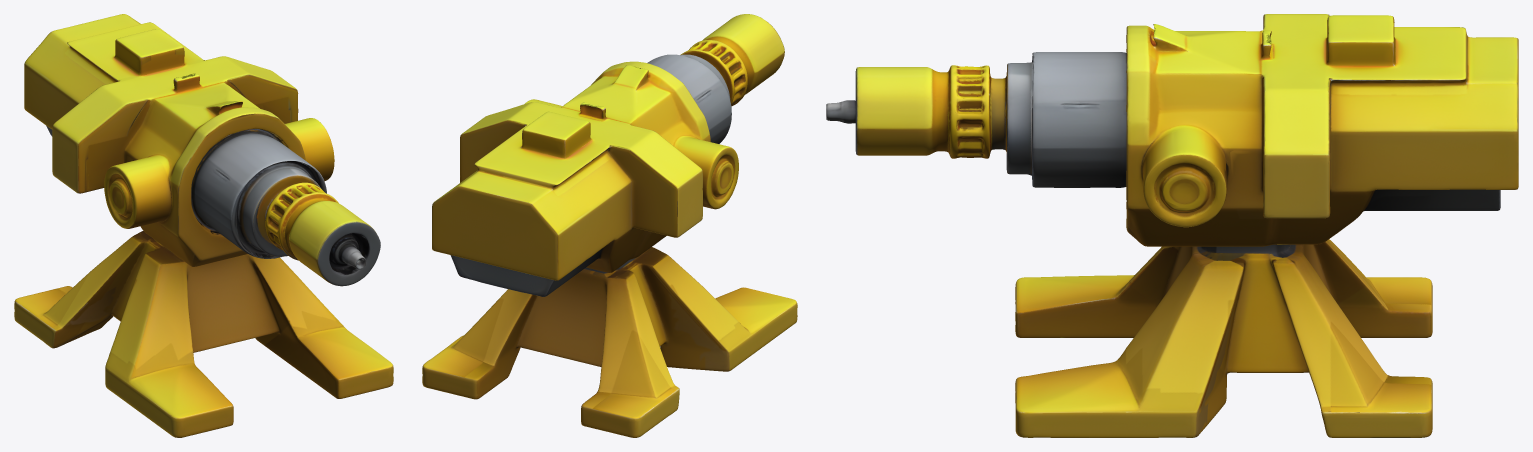
The model's file is Plasma-turret-cannon.fbx.
The picture shows the model from 3 angles, left to right: view 1: azimuth 30°, elevation 25°; view 2: azimuth 150°, elevation 25°; view 3: azimuth 270°, elevation 25°; orthographic projection. The views are drawn at different scales.
Visible parts, largest first — view 1: Plasma-turret-cannon; view 2: Plasma-turret-cannon; view 3: Plasma-turret-cannon.
Part boxes in pixels (x1,y1,x2,y2): Plasma-turret-cannon: (14, 14, 393, 437); Plasma-turret-cannon: (422, 14, 797, 437); Plasma-turret-cannon: (826, 14, 1518, 437).
Bounding box in the file's own units: 88.47 × 104 × 190.
